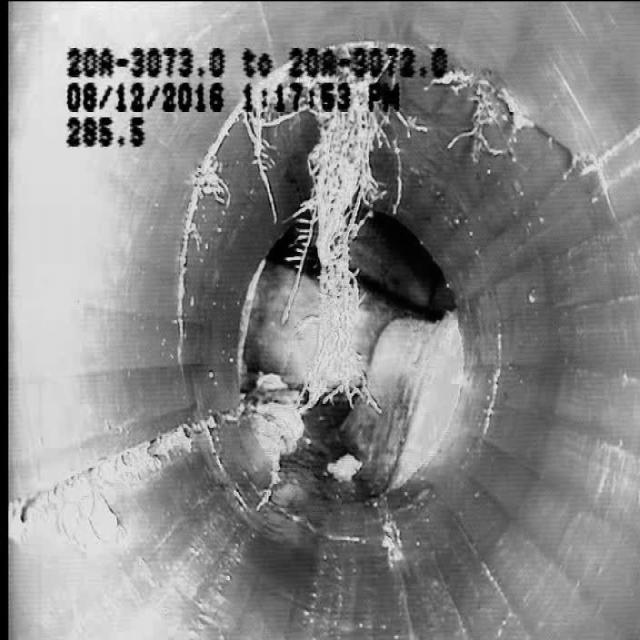Fracture: (28, 396, 224, 550), (476, 68, 588, 193)
